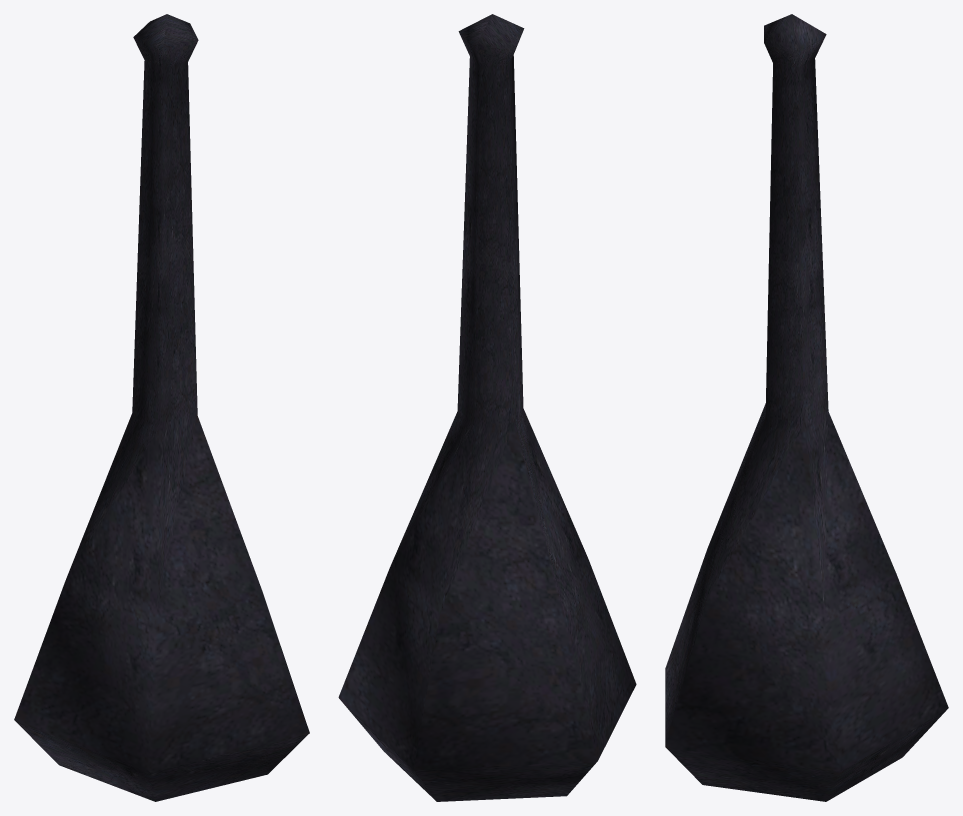
The model's file is edb_con_tato_bottle_empty_s02_l2.fbx.
3 renders of one model, left to right at view 1: azimuth 30°, elevation 25°; view 2: azimuth 150°, elevation 25°; view 3: azimuth 270°, elevation 25°, orthographic.
Parts seen in each view (by area): view 1: mesh_node; view 2: mesh_node; view 3: mesh_node.
Part boxes in pixels (x1,y1,x2,y2): mesh_node: [14, 14, 309, 801]; mesh_node: [338, 14, 636, 801]; mesh_node: [665, 14, 948, 801].
Size of the model in its own units: 0.3231 by 0.8889 by 0.3073.
